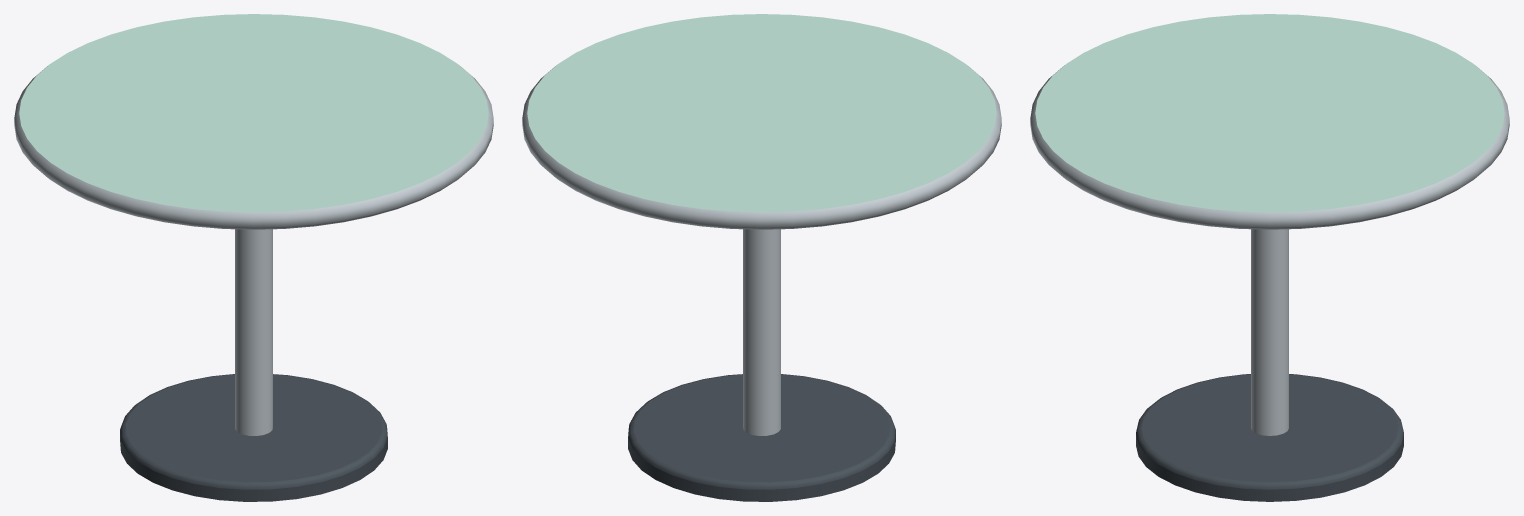
File: SM_RoundTable.glb
3 renders of one model, left to right at view 1: azimuth 30°, elevation 25°; view 2: azimuth 150°, elevation 25°; view 3: azimuth 270°, elevation 25°, orthographic.
Visible parts, largest first — view 1: SM_RoundTable; view 2: SM_RoundTable; view 3: SM_RoundTable.
Boxes of the visible parts, x1,y1,x2,y2 form: SM_RoundTable: (14,14,493,501); SM_RoundTable: (522,14,1001,501); SM_RoundTable: (1030,14,1509,501).
Bounding box in the file's own units: 1 × 0.765 × 1.
2 materials, 2 textured.
